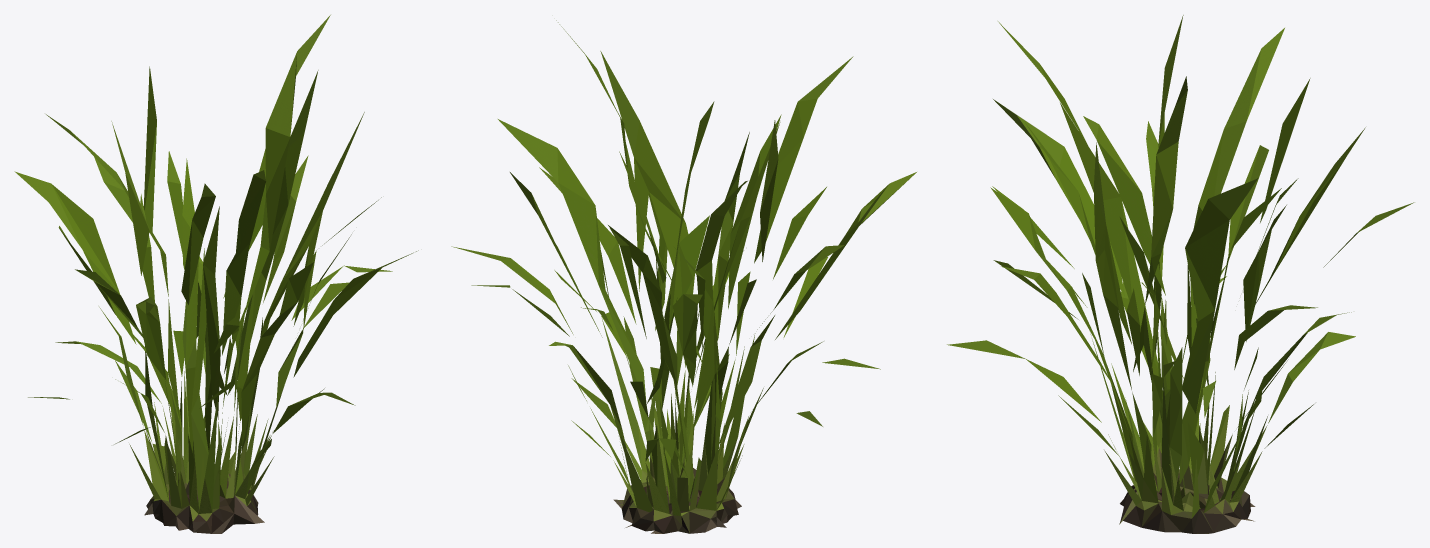
File: mn_eelgrass.glb
3 views of the same model, side by side, from view 1: azimuth 30°, elevation 25°; view 2: azimuth 150°, elevation 25°; view 3: azimuth 270°, elevation 25° (orthographic). The views are drawn at different scales.
Parts seen in each view (by area): view 1: mn_eelgrass; view 2: mn_eelgrass; view 3: mn_eelgrass.
Boxes of the visible parts, x1,y1,x2,y2 form: mn_eelgrass: [14, 15, 418, 533]; mn_eelgrass: [451, 20, 916, 533]; mn_eelgrass: [947, 15, 1414, 533].
Size of what is drawn, in the model's own units: 0.6402 by 0.783 by 0.6628.
